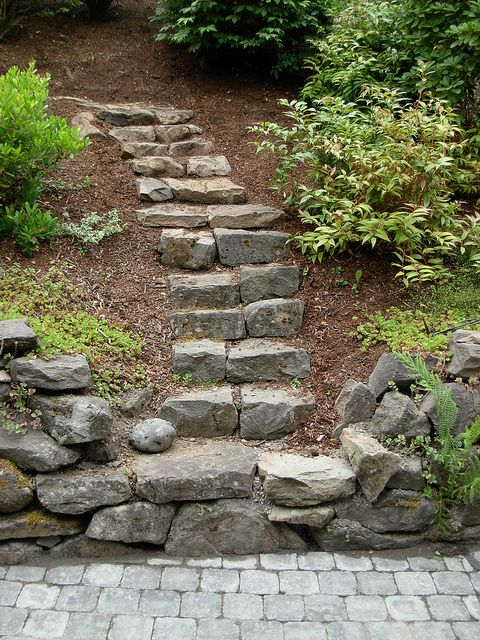upstairs: (174, 288, 306, 581)
